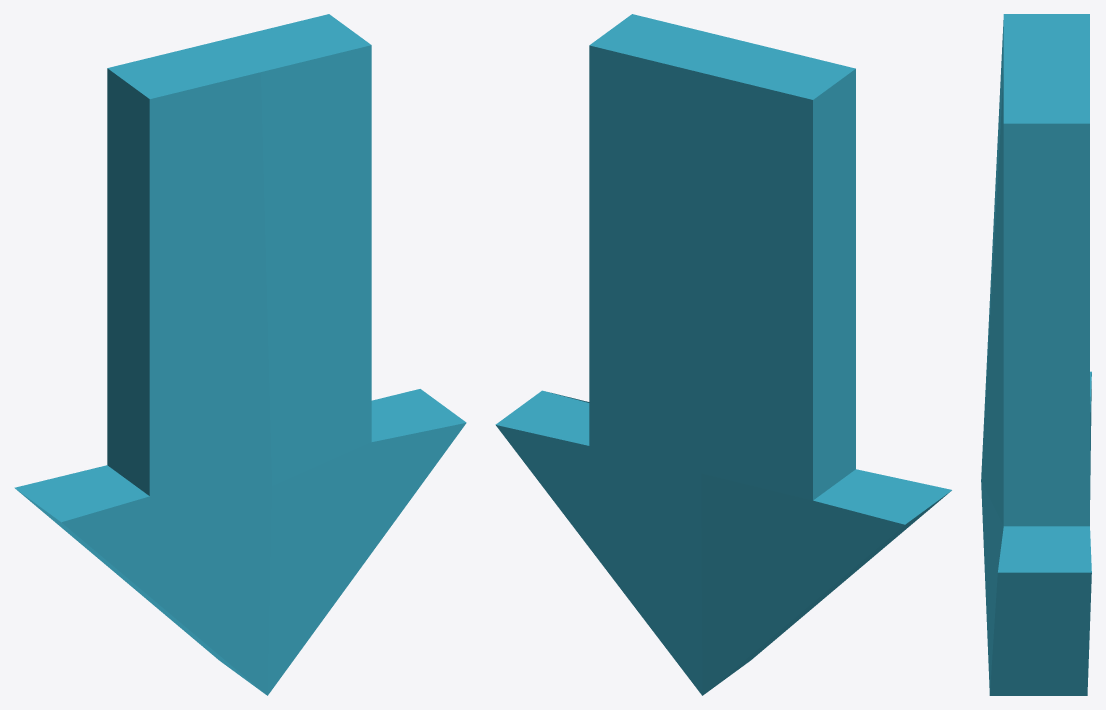
File: ArrowIndicator.fbx
3 renders of one model, left to right at view 1: azimuth 30°, elevation 25°; view 2: azimuth 150°, elevation 25°; view 3: azimuth 270°, elevation 25°, orthographic.
Parts seen in each view (by area): view 1: Cube; view 2: Cube; view 3: Cube.
Part boxes in pixels (<box>): Cube: <box>14,14,466,695</box>; Cube: <box>495,14,951,695</box>; Cube: <box>981,14,1091,695</box>.
Bounding box in the file's own units: 200 × 291 × 46.62.
